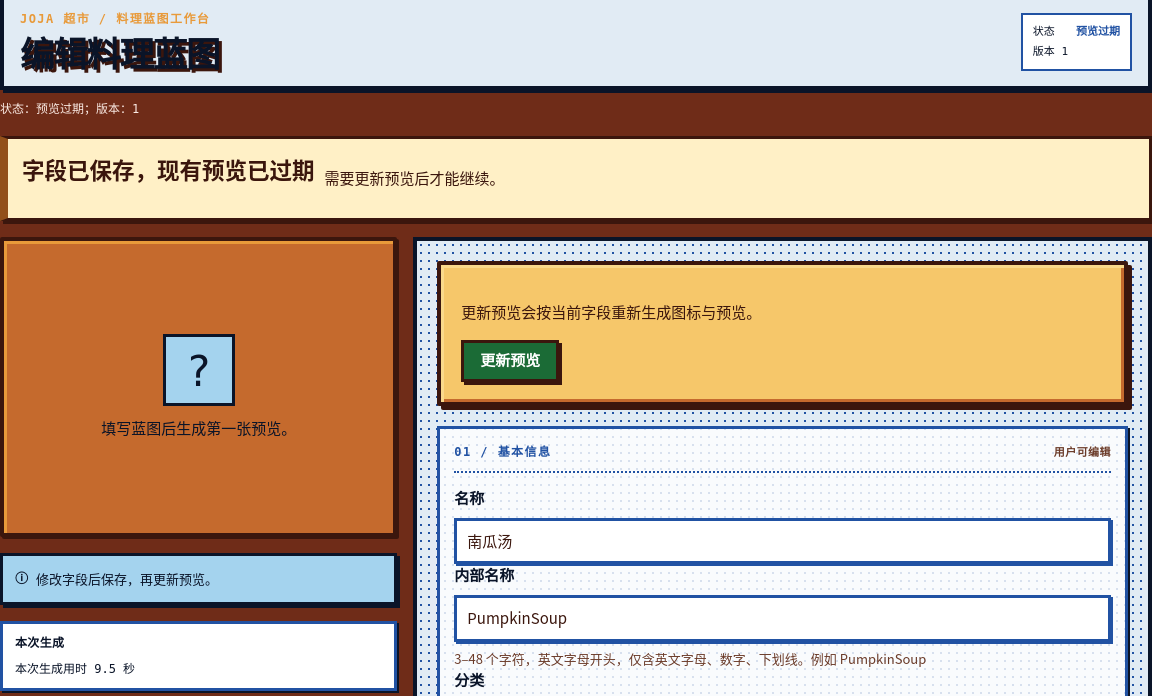
Test: blueprint editor › clears the old trial fact when a blueprint preview update starts
Click the button "更新预览": (510, 361) [461,340,559,382]
(page scrolled)
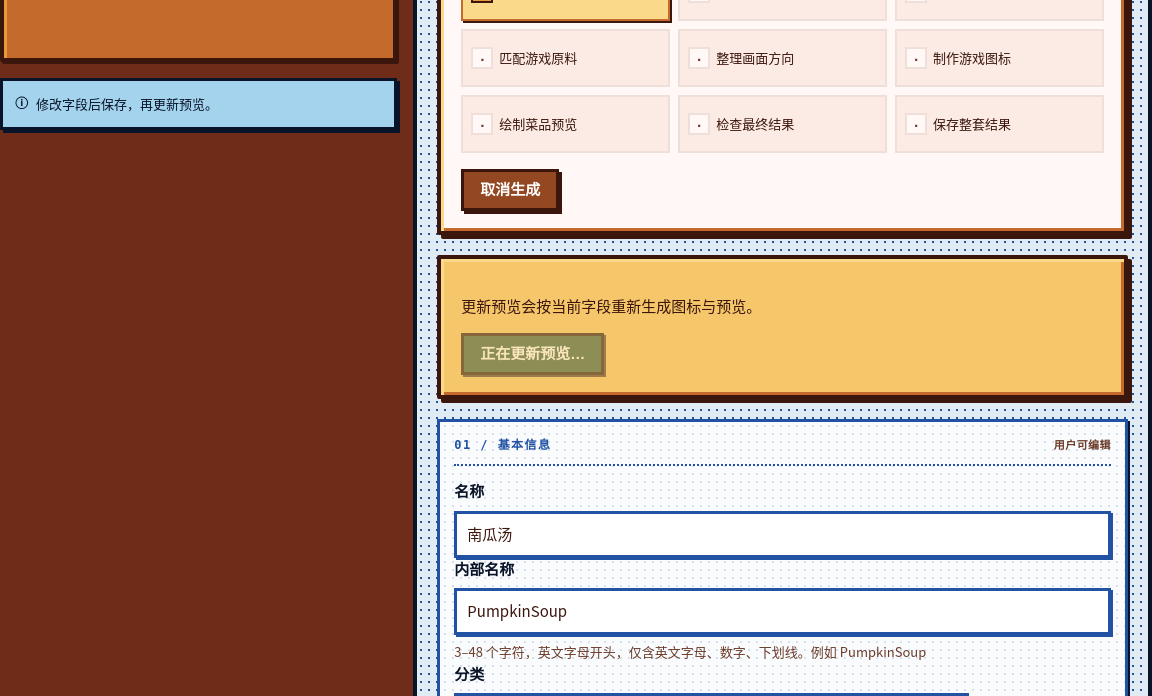
Check: the button "正在更新预览…" is shown, box [461,333,604,375]
